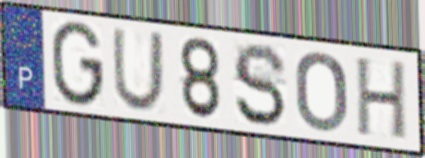8: (177, 34, 222, 122)
G: (50, 18, 106, 110)
H: (354, 56, 409, 144)
O: (292, 50, 350, 135)
S: (230, 41, 289, 130)
U: (110, 26, 167, 115)
